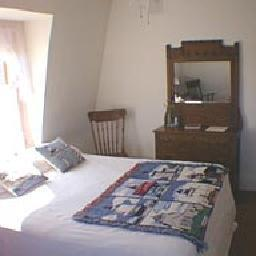Cama: (6, 153, 232, 254)
